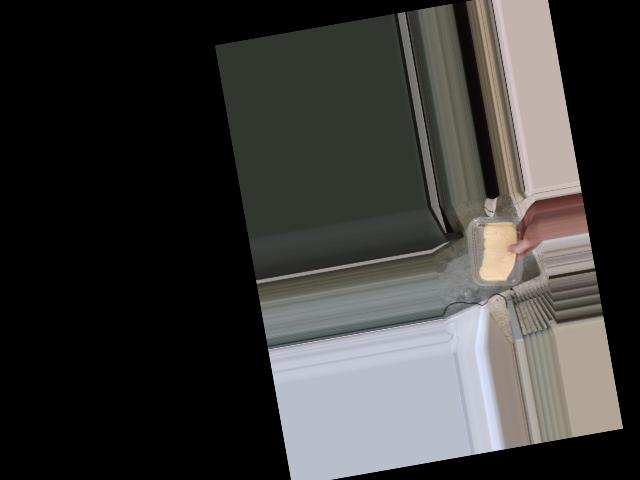cheese: (467, 211, 529, 290)
